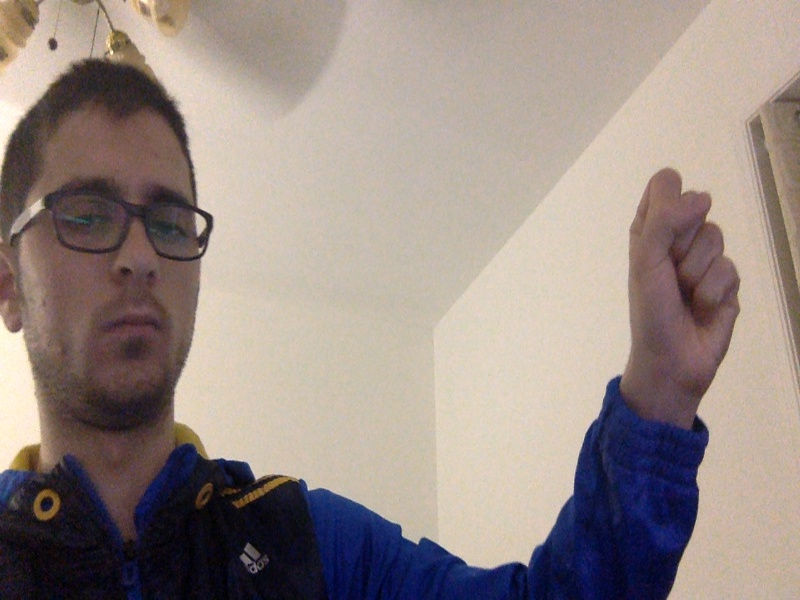0-hand: (632, 169, 741, 400)
